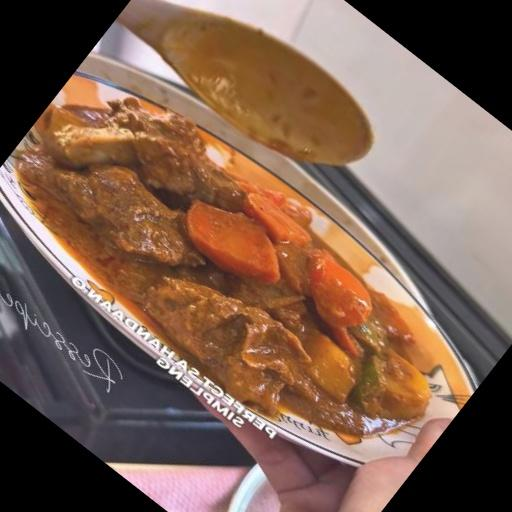pork caldereta: (26, 99, 433, 423)
